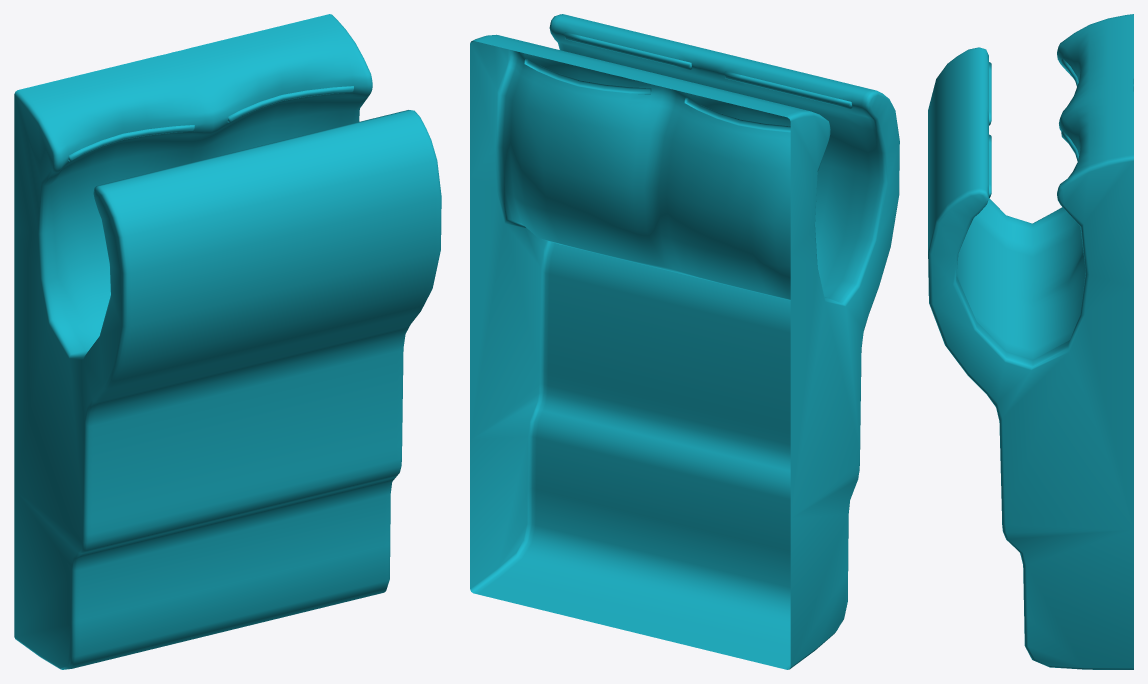
File: Handryer.fbx
3 views of the same model, side by side, from view 1: azimuth 30°, elevation 25°; view 2: azimuth 150°, elevation 25°; view 3: azimuth 270°, elevation 25° (orthographic). The views are drawn at different scales.
Parts seen in each view (by area): view 1: Handryer; view 2: Handryer; view 3: Handryer.
Boxes of the visible parts, bbox=[...] form: Handryer: bbox=[14, 14, 441, 669]; Handryer: bbox=[470, 14, 899, 669]; Handryer: bbox=[928, 14, 1133, 669].
Bounding box in the file's own units: 21.02 × 34.62 × 12.58.
